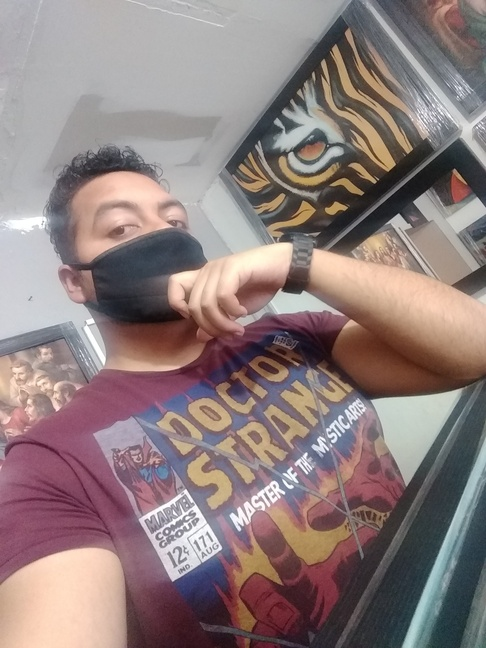Yoshi: (19, 120, 259, 391)
